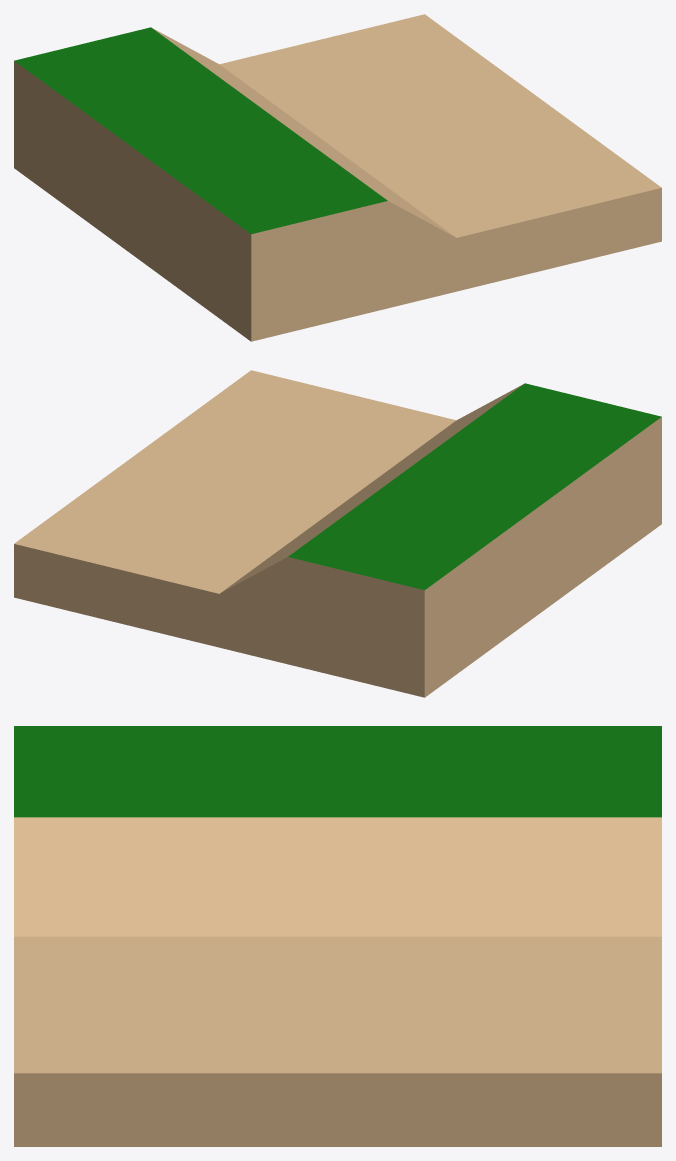
Rendered from tile_wide_edge.glb.
3 renders of one model, top to bottom at view 1: azimuth 30°, elevation 25°; view 2: azimuth 150°, elevation 25°; view 3: azimuth 270°, elevation 25°, orthographic. The views are drawn at different scales.
Parts seen in each view (by area): view 1: Plane.016; view 2: Plane.016; view 3: Plane.016.
Boxes of the visible parts, box(x1,y1,x2,y2) form: Plane.016: box(14, 14, 661, 341); Plane.016: box(14, 370, 661, 697); Plane.016: box(14, 726, 661, 1146).
Bounding box in the file's own units: 2 × 0.5 × 2.
